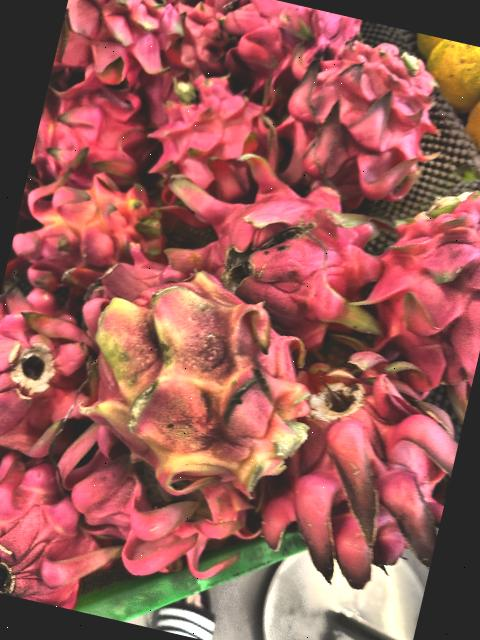buah-naga-belum-matang: (48, 246, 338, 500), (12, 138, 184, 299)
buah-naga-matang: (259, 330, 475, 586), (155, 138, 391, 348), (258, 19, 460, 216), (43, 422, 255, 588), (342, 165, 480, 395), (0, 449, 125, 615), (0, 284, 99, 472), (146, 72, 276, 202), (27, 80, 152, 201), (213, 0, 361, 97), (53, 0, 189, 86), (154, 0, 233, 86)
